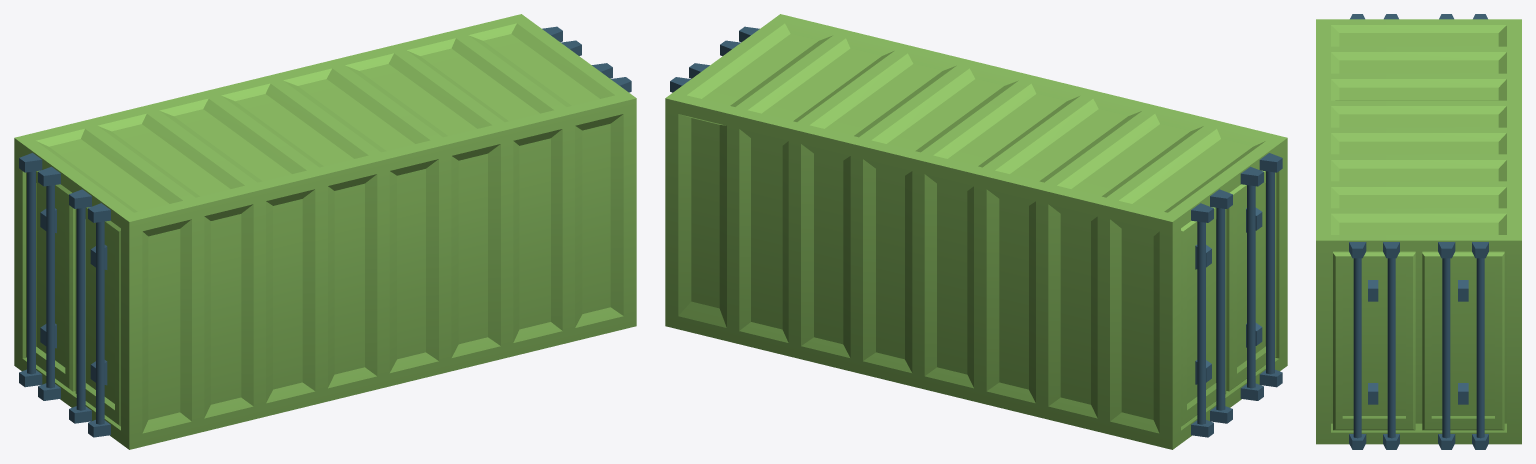
File: CC_Green.fbx
3 renders of one model, left to right at view 1: azimuth 30°, elevation 25°; view 2: azimuth 150°, elevation 25°; view 3: azimuth 270°, elevation 25°, orthographic. The views are drawn at different scales.
Parts seen in each view (by area): view 1: CC_Green; view 2: CC_Green; view 3: CC_Green.
Part boxes in pixels (bbox=[...]): CC_Green: bbox=[14, 14, 636, 449]; CC_Green: bbox=[665, 14, 1287, 449]; CC_Green: bbox=[1316, 14, 1521, 449].
Size of the model in its own units: 648 by 262 by 240.
